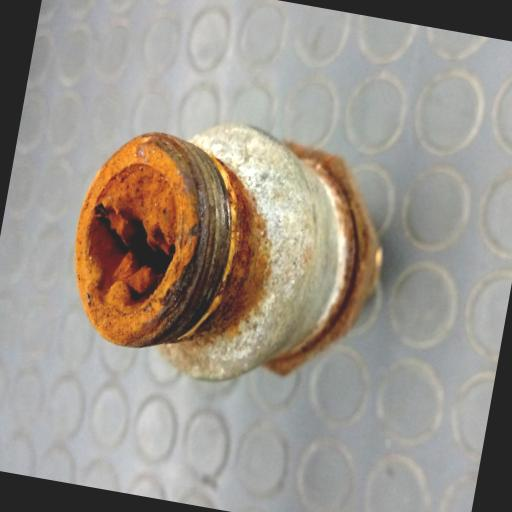segmentation: (75, 133, 253, 347), (265, 141, 382, 375), (194, 160, 271, 337)
